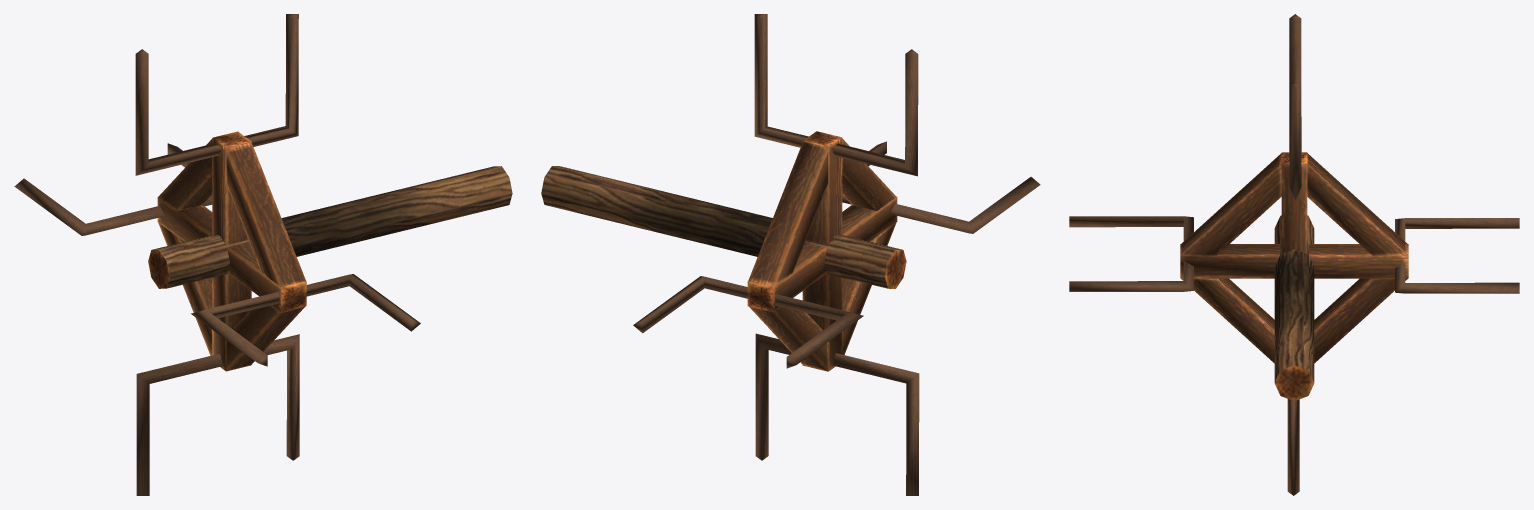
The model's file is INST_SWORDLIGHT_ELEVA.fbx.
3 views of the same model, side by side, from view 1: azimuth 30°, elevation 25°; view 2: azimuth 150°, elevation 25°; view 3: azimuth 270°, elevation 25° (orthographic). The views are drawn at different scales.
Visible parts, largest first — view 1: INST_SWORDLIGHT_ELEVA; view 2: INST_SWORDLIGHT_ELEVA; view 3: INST_SWORDLIGHT_ELEVA.
Boxes of the visible parts, x1,y1,x2,y2 form: INST_SWORDLIGHT_ELEVA: [14, 14, 512, 495]; INST_SWORDLIGHT_ELEVA: [541, 14, 1040, 495]; INST_SWORDLIGHT_ELEVA: [1069, 14, 1519, 495].
Size of the model in its own units: 49017 by 56560 by 56560.
Materials: 3 (3 with a texture image).
